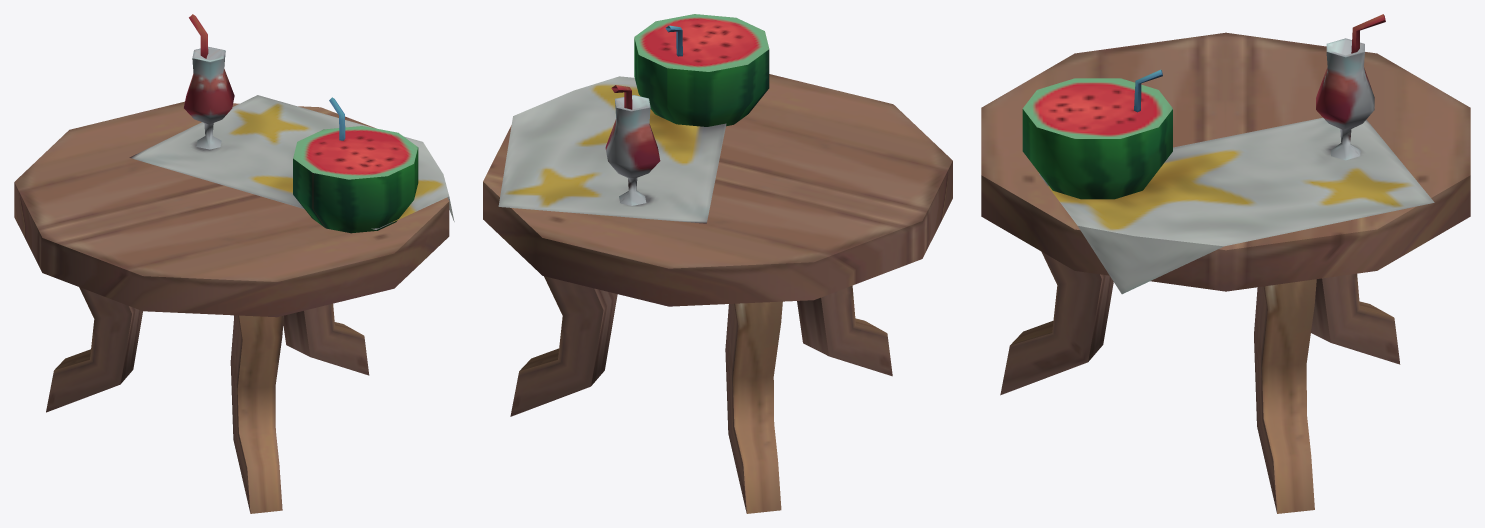
The model's file is Map_05_table01.FBX.
3 renders of one model, left to right at view 1: azimuth 30°, elevation 25°; view 2: azimuth 150°, elevation 25°; view 3: azimuth 270°, elevation 25°, orthographic. The views are drawn at different scales.
Parts seen in each view (by area): view 1: Map_05_table01; view 2: Map_05_table01; view 3: Map_05_table01.
Part boxes in pixels (left/top/right/bottom): Map_05_table01: left=14, top=14, right=454, bottom=513; Map_05_table01: left=483, top=14, right=952, bottom=513; Map_05_table01: left=981, top=14, right=1470, bottom=513.
Bounding box in the file's own units: 109 × 103 × 98.51.
